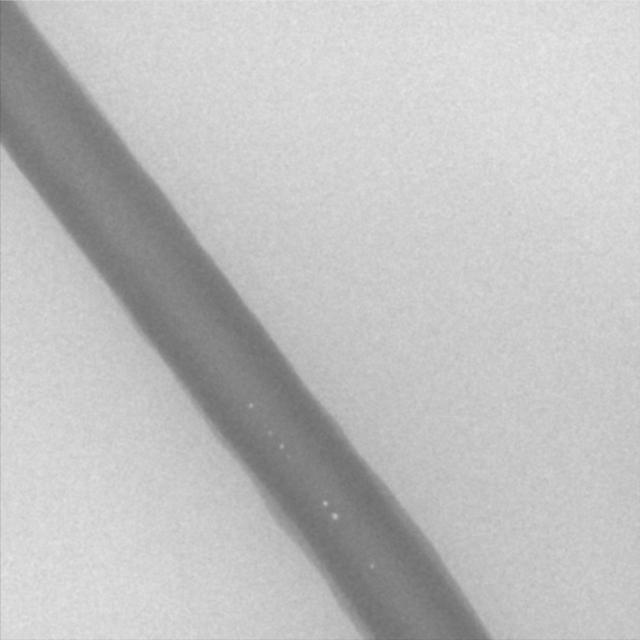air hole: (330, 510, 339, 521), (246, 400, 255, 411), (277, 441, 285, 451), (369, 560, 376, 571), (321, 499, 328, 509)
